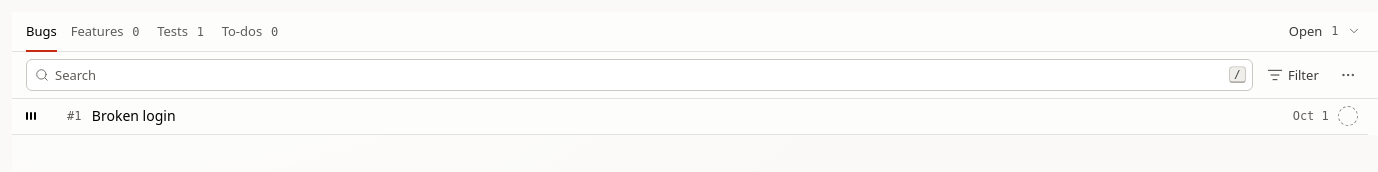
BugList › has a Tests tab that shows only tests
Expected: the option "#4 Checkout smoke test" is not shown
Click the tab "Tests 1": (182, 32) x1=157 y1=12 x2=208 y2=51
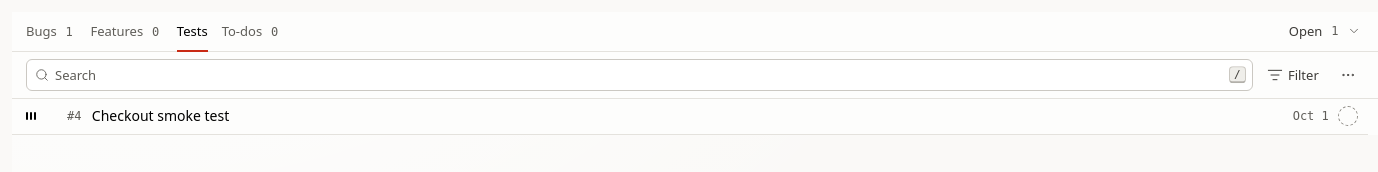
Expected: the search field named "Search tests" is shown, x1=26 y1=59 x2=1253 y2=91
Expected: the option "#4 Checkout smoke test Oct 1" is shown, x1=12 y1=99 x2=1368 y2=135
Expected: the option "#1 Broken login" is gone
